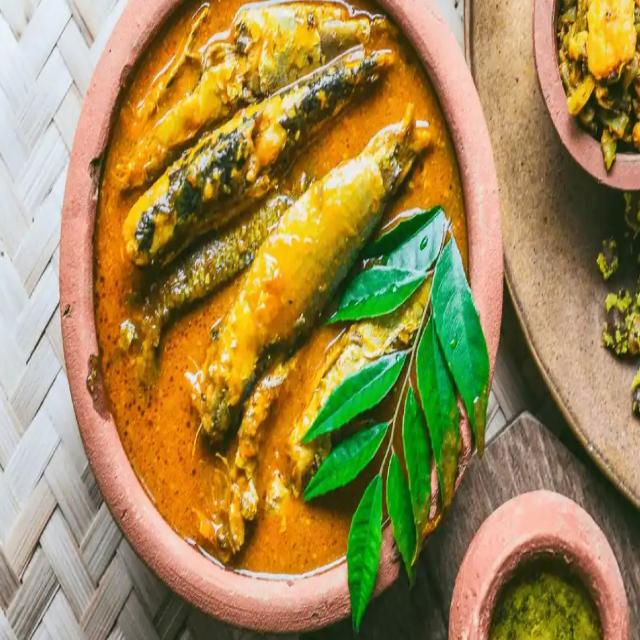FISH CURRY: (87, 0, 469, 572)
